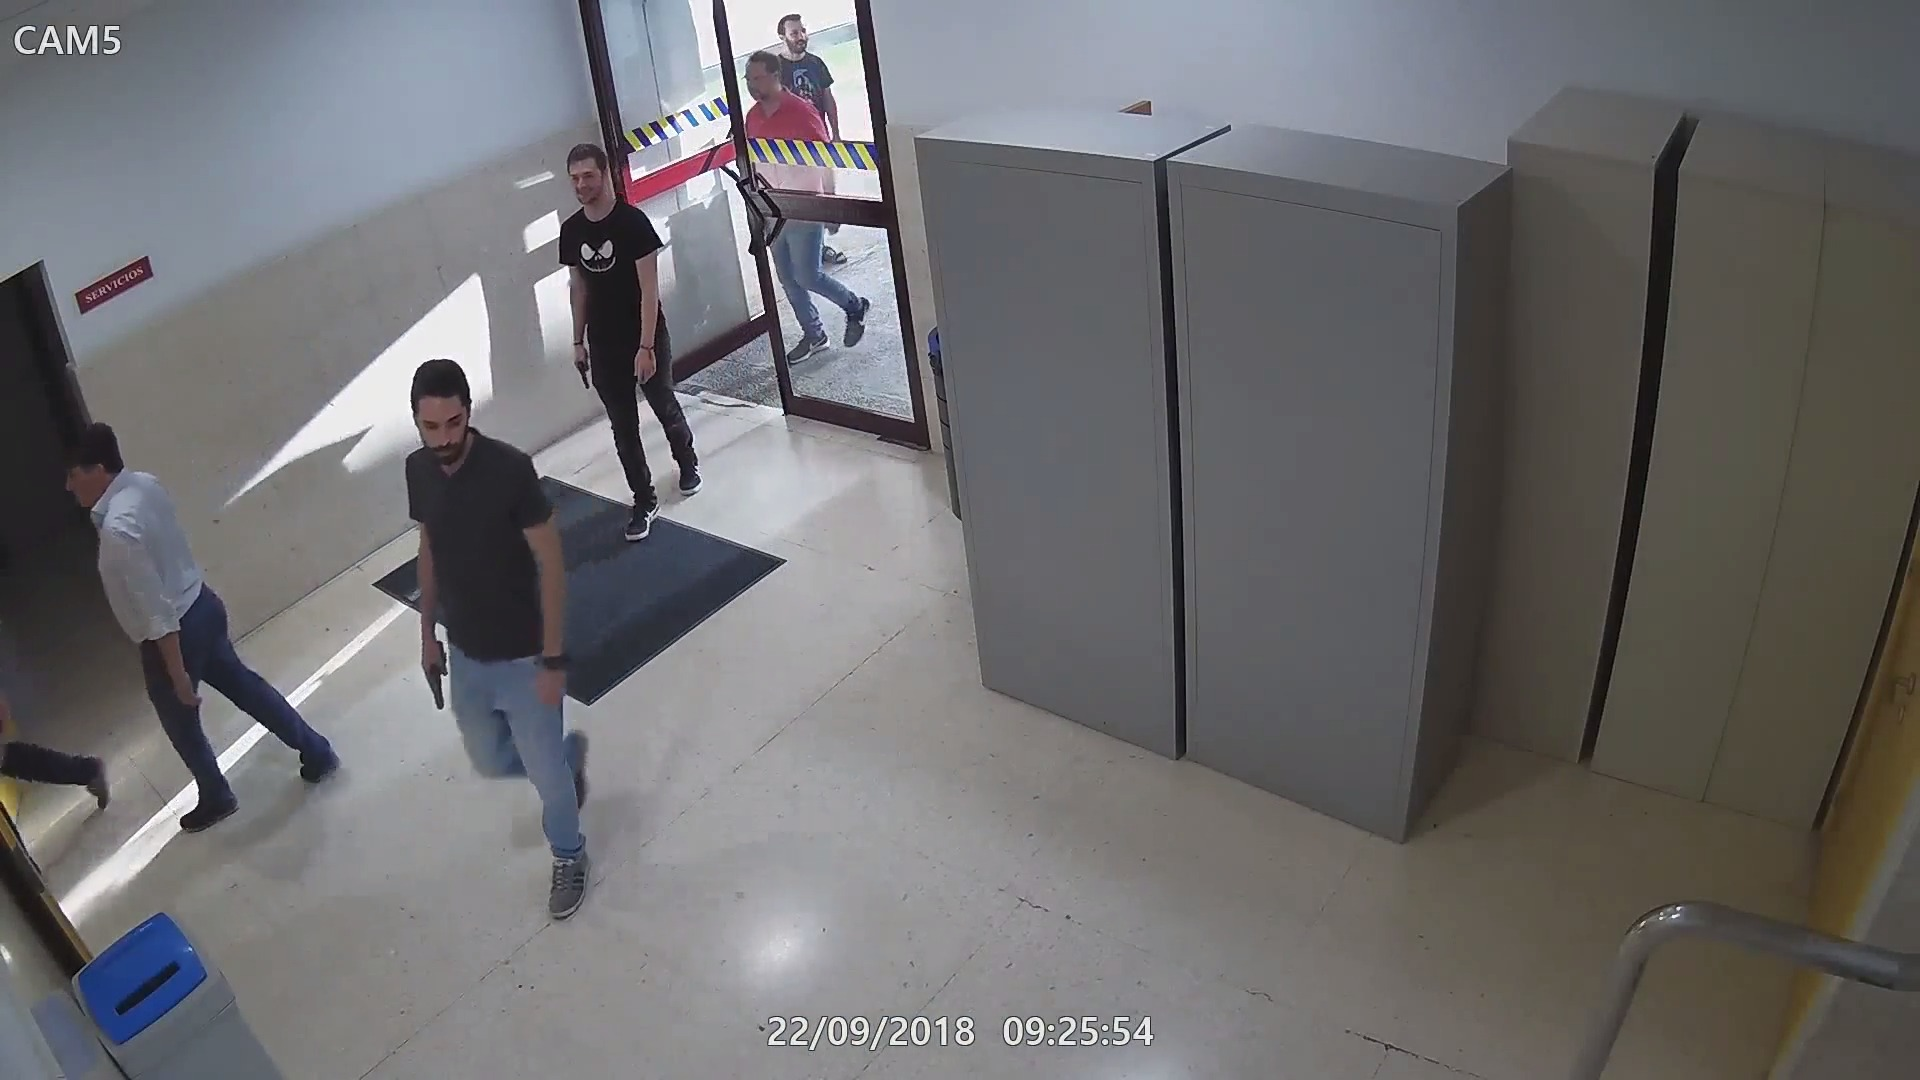Handgun: (411, 644, 442, 721), (564, 345, 592, 393)
